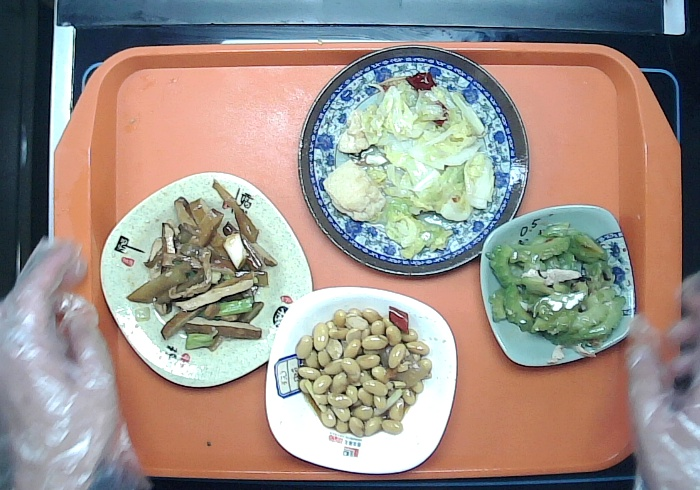NLDX-Bai_Se_Xiao_Fang_Die: (262, 284, 460, 476)
NLDX-Fu_Zi_Fang_Die: (97, 169, 315, 391)
NLDX-Qing_Hua_Xiao_Fang_Die: (477, 201, 640, 370)
NLDX-Qing_Hua_Yuan_Die: (294, 40, 534, 279)
